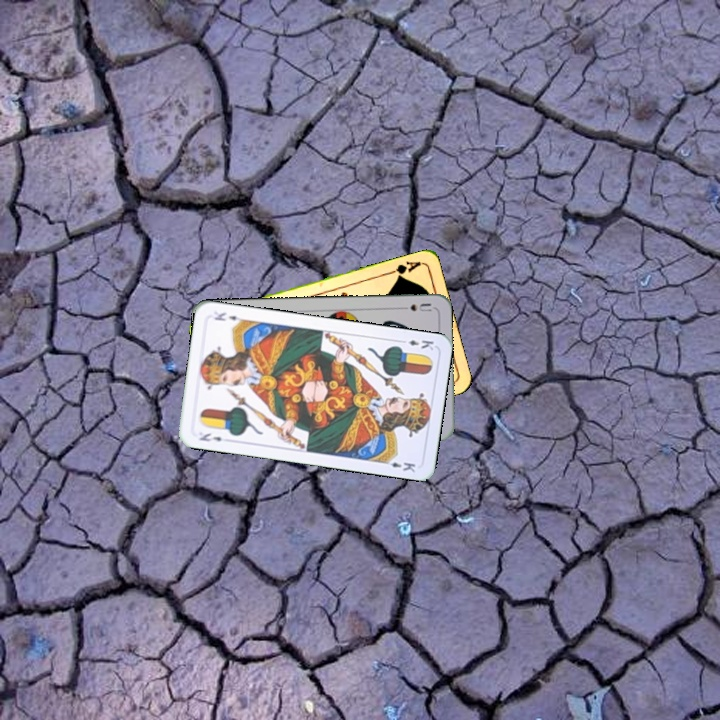EK: (396, 336, 436, 352), (195, 429, 224, 444)
GA: (384, 257, 424, 282)
SU: (395, 299, 434, 314)
